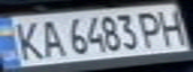3: (115, 11, 142, 51)
4: (84, 12, 106, 54)
6: (63, 15, 87, 55)
8: (100, 12, 124, 52)
A: (33, 17, 66, 59)
H: (154, 7, 190, 47)
K: (6, 18, 45, 62)
P: (133, 8, 169, 48)
